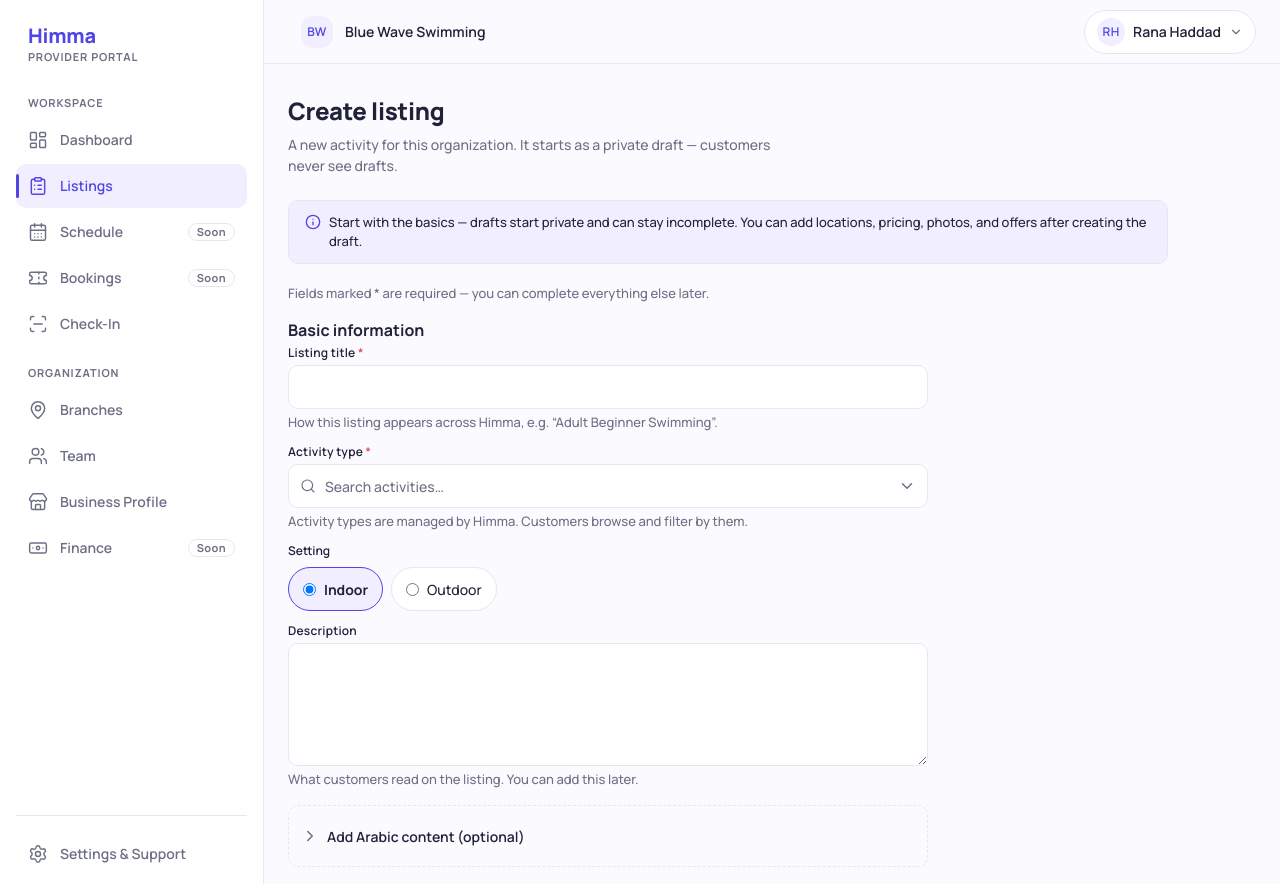
Scenario: listing creation (W2-8 + interaction-model correction) › the activity selector is searchable and shows Himma’s category context; only ACTIVE taxonomy is offered
Click the dropdown labelled "Activity type *": (608, 486) [288,464,928,508]
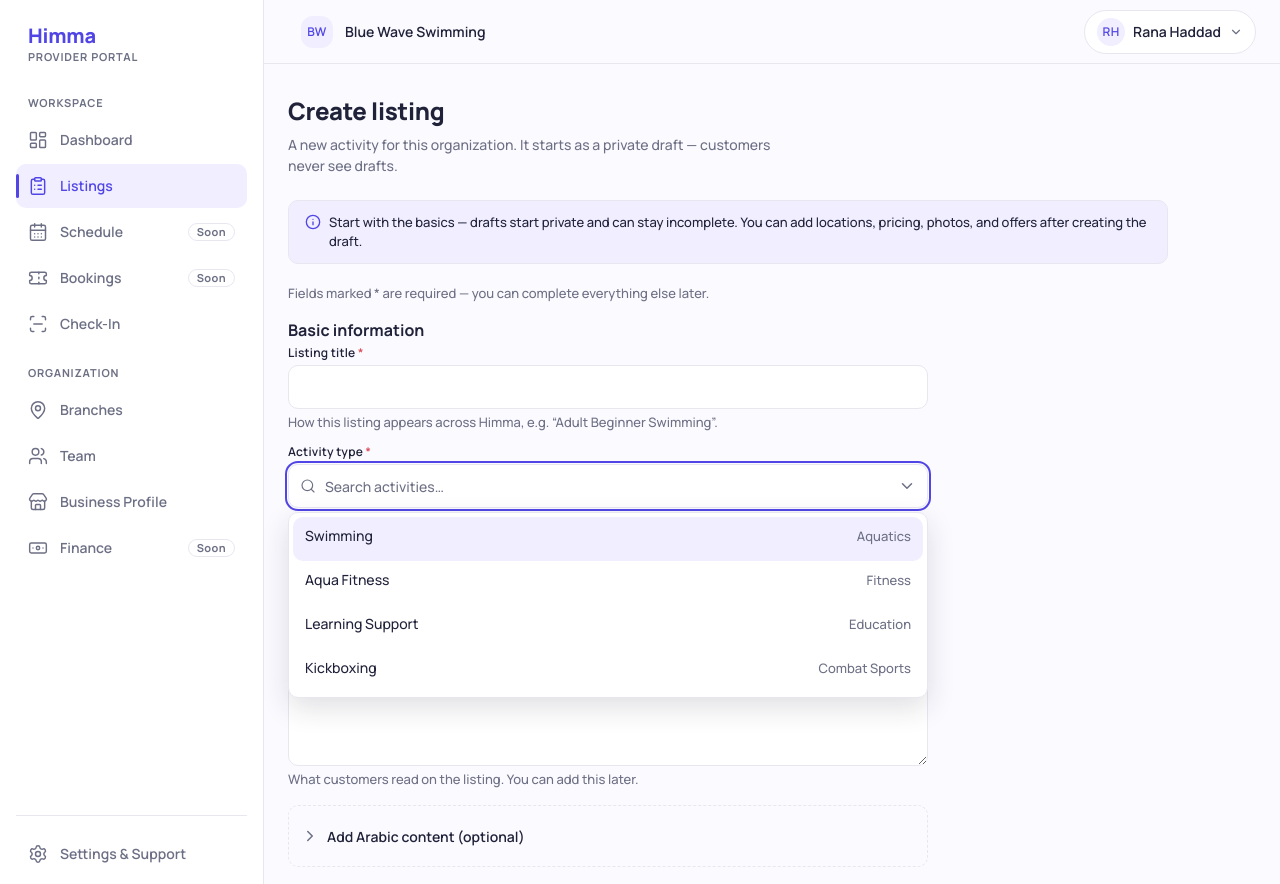
Result: the text "Aquatics" is shown at [857,527,911,546]
// Typing filters by label.
In the dropdown labelled "Activity type *": (608, 486) [288,464,928,508], type "kick"
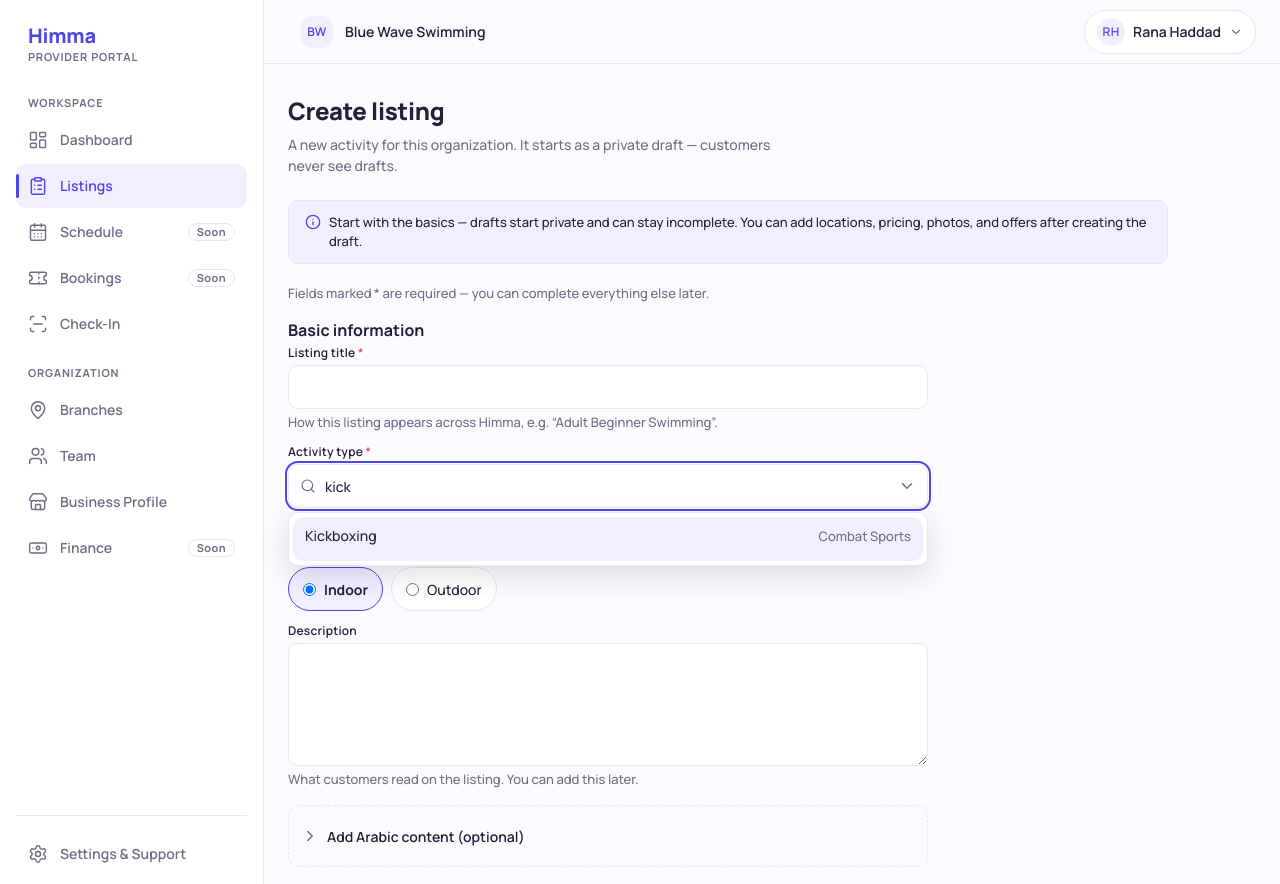
Result: the option shows "Kickboxing" at [293,517,923,561]
Result: the number of options is 1 at [293,517,923,561]
// Keyboard selection: ArrowDown + Enter picks the listed canonical row.
Press Arrowdown Enter
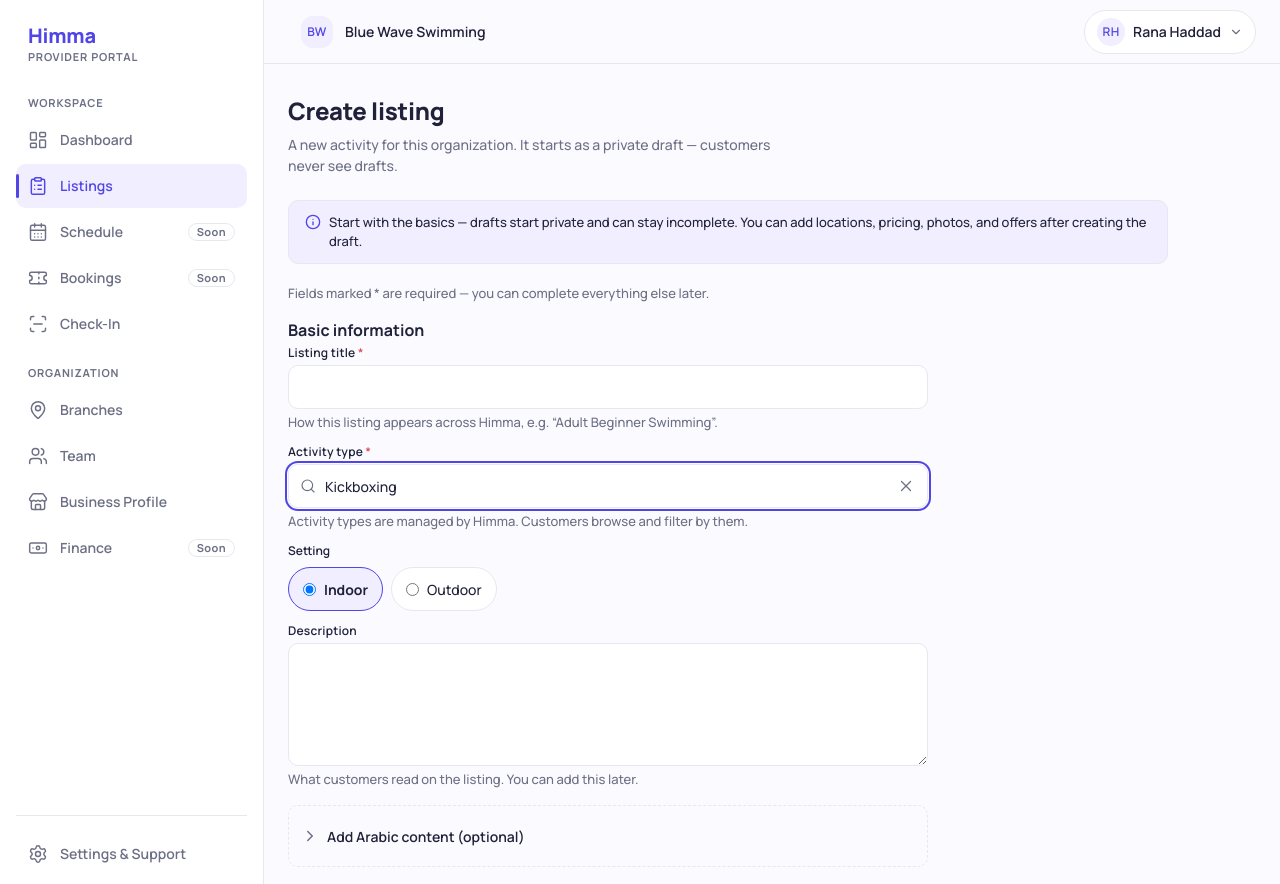
Result: the dropdown labelled "Activity type *" holds "Kickboxing" at [288,464,928,508]
Result: the list "Kickboxing Combat Sports" is gone
